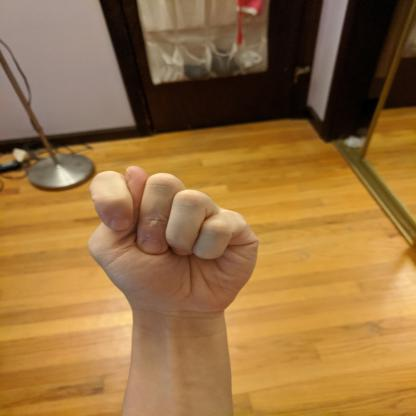T: (82, 161, 264, 318)
